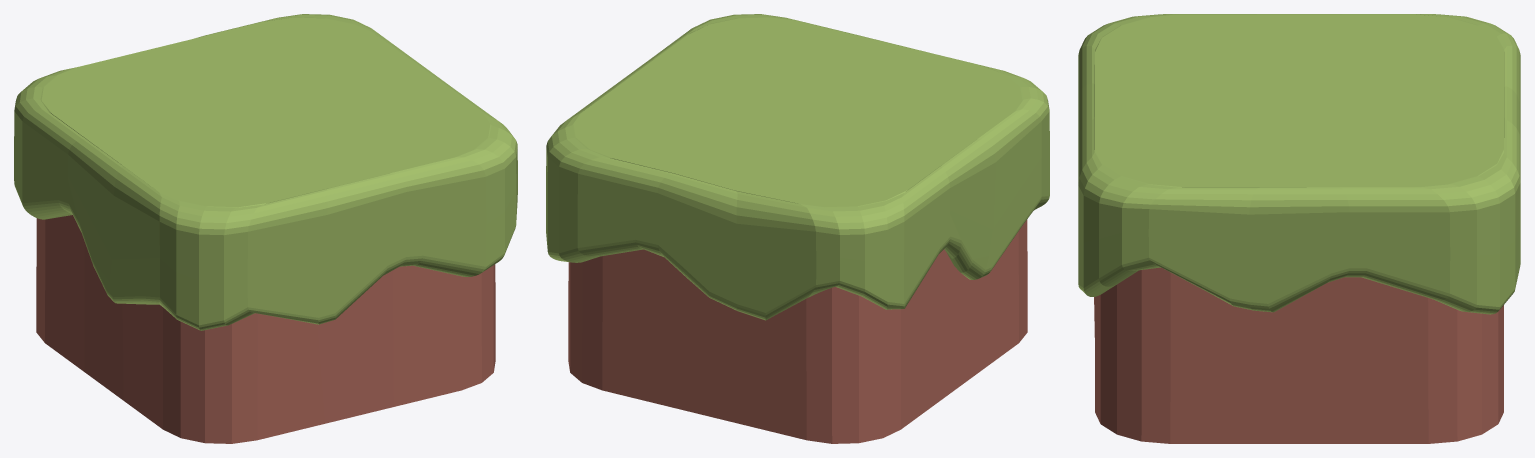
The model's file is island.platform.wave.glb.
The picture shows the model from 3 angles, left to right: view 1: azimuth 30°, elevation 25°; view 2: azimuth 150°, elevation 25°; view 3: azimuth 270°, elevation 25°; orthographic projection. The views are drawn at different scales.
Visible parts, largest first — view 1: island.002; view 2: island.002; view 3: island.002.
Boxes of the visible parts, x1,y1,x2,y2 form: island.002: (14,14,517,443); island.002: (546,14,1049,443); island.002: (1078,14,1520,443).
Size of the model in its own units: 3.24 by 2.08 by 3.24.
